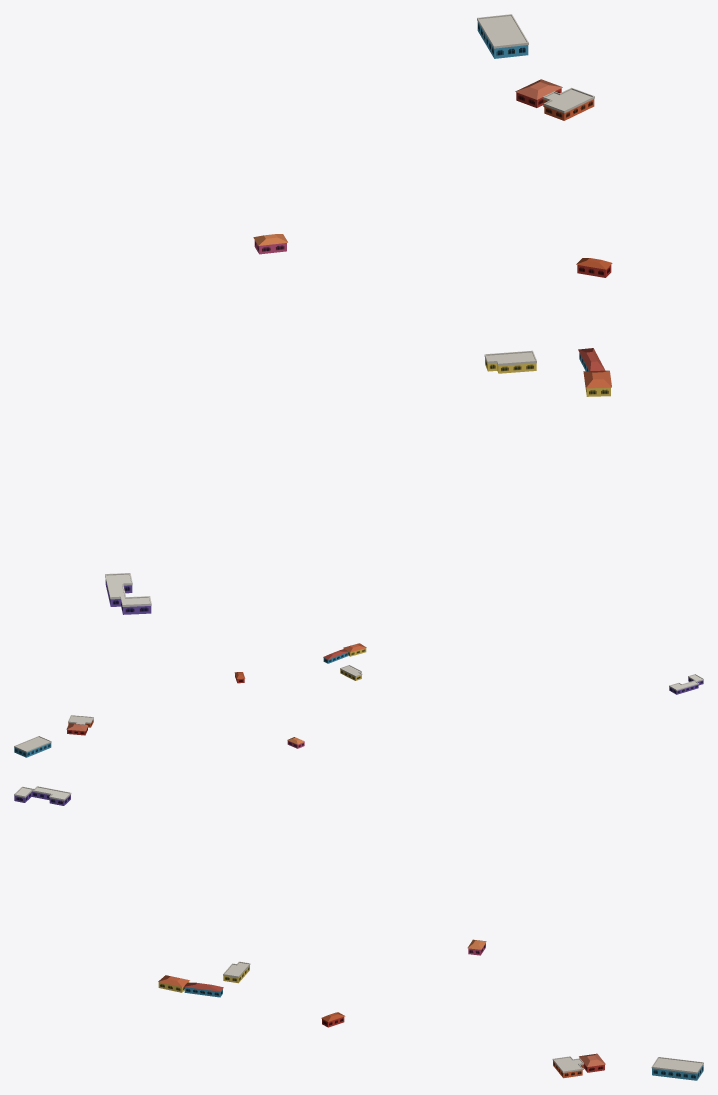
File: msb_palmbeach_m21_m14.glb
3 renders of one model, top to bottom at view 1: azimuth 30°, elevation 25°; view 2: azimuth 150°, elevation 25°; view 3: azimuth 270°, elevation 25°, orthographic. The views are drawn at different scales.
Parts seen in each view (by area): view 1: msb_palmbeach_m21_m14_lod0; view 2: msb_palmbeach_m21_m14_lod0; view 3: msb_palmbeach_m21_m14_lod0.
Boxes of the visible parts, x1,y1,x2,y2 form: msb_palmbeach_m21_m14_lod0: [105, 14, 612, 614]; msb_palmbeach_m21_m14_lod0: [14, 643, 703, 757]; msb_palmbeach_m21_m14_lod0: [14, 786, 703, 1080].
Size of what is drawn, in the model's own units: 362 by 9.2 by 358.
Materials: 3 (1 with a texture image).
